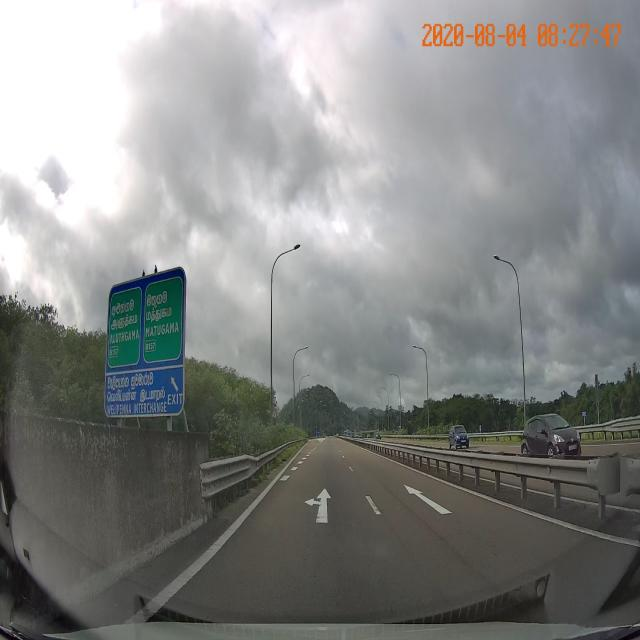forward_lft: (223, 479, 398, 538)
